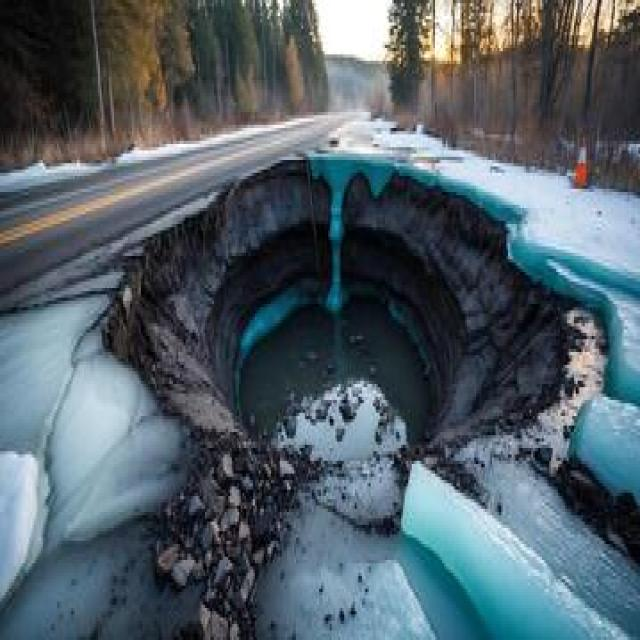road collapse: (79, 85, 576, 640)
